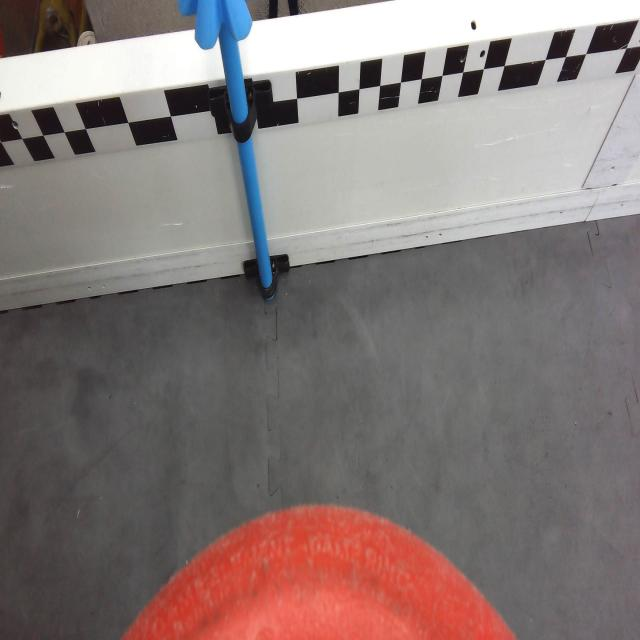zblue-Stake-Head: (178, 0, 252, 53)
